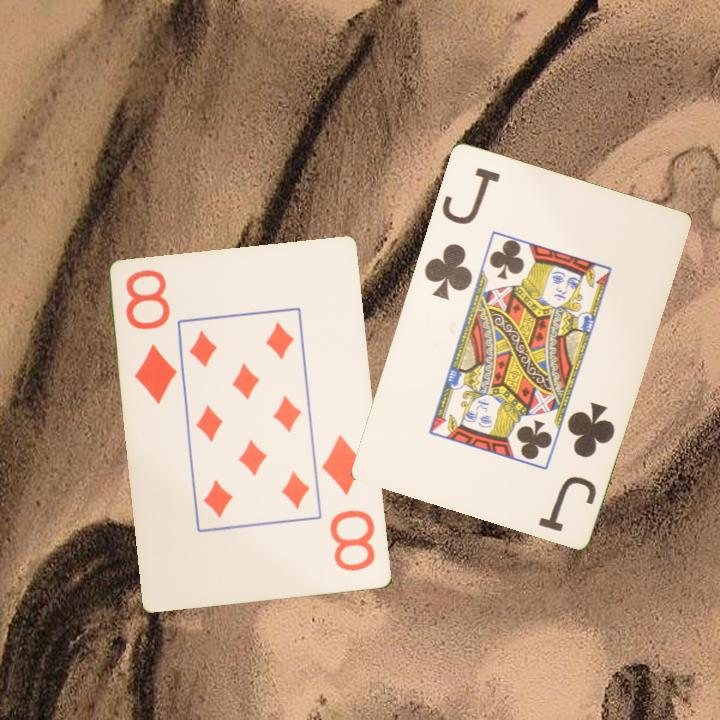8d: (319, 431, 379, 575), (122, 266, 181, 408)
Jc: (420, 163, 503, 302), (534, 398, 618, 535)
